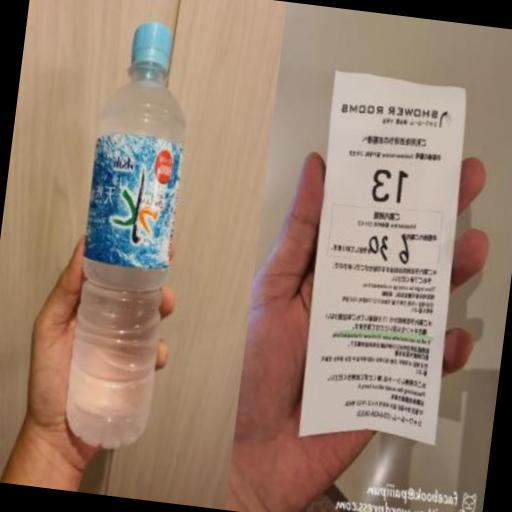Coca: (53, 9, 204, 458)
